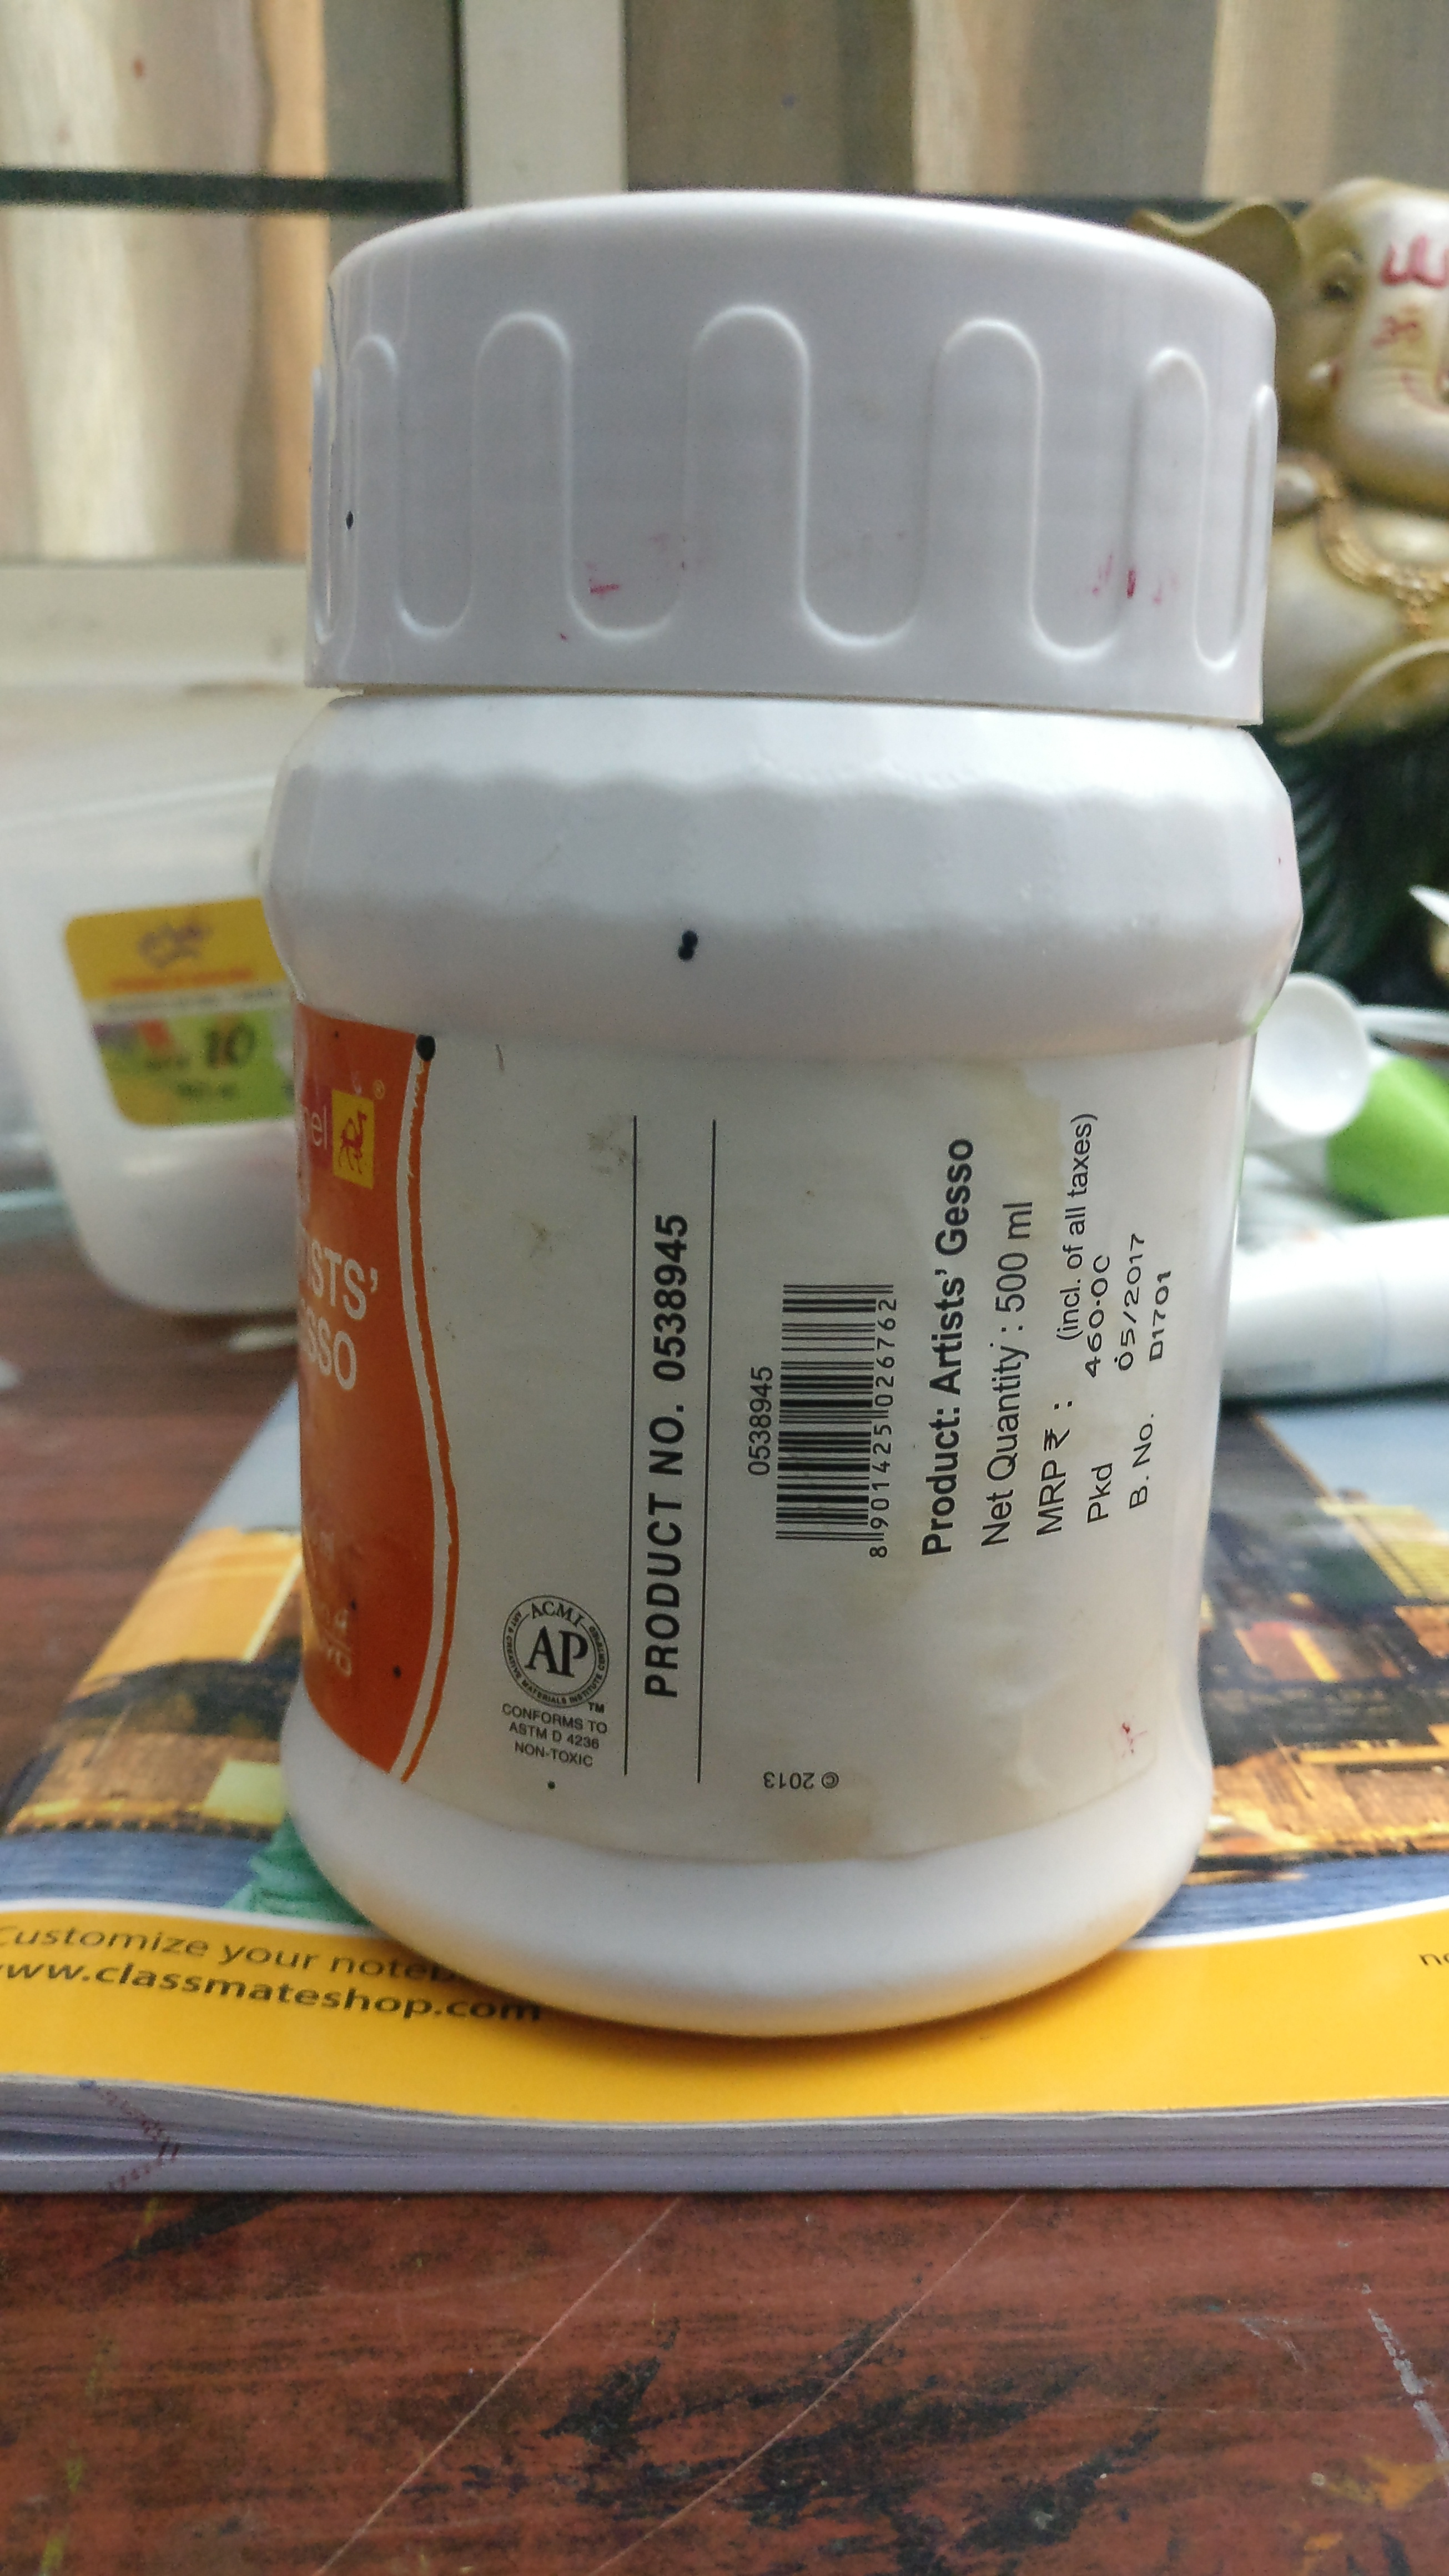barcode: (729, 1258, 916, 1614)
